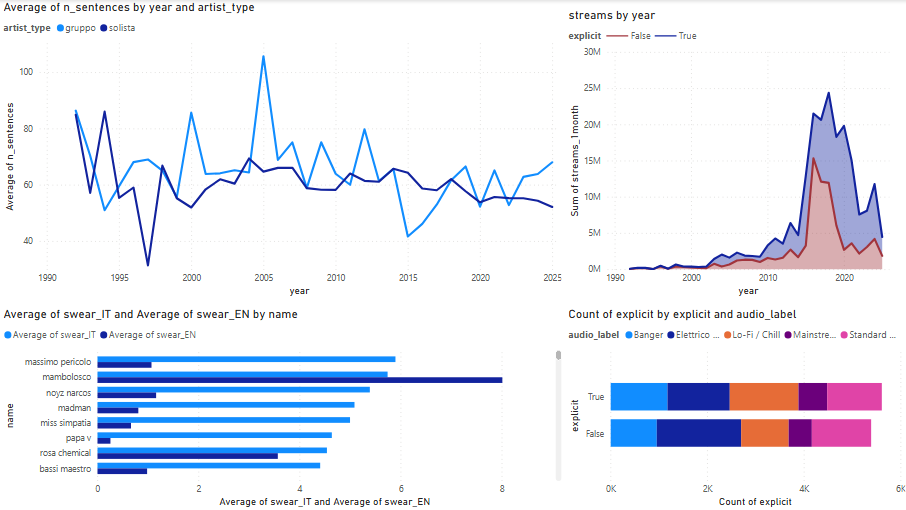

Layout of this report page (visuals, bound fields, positions):
{"tool":"powerbi","page":{"name":"A21","canvas":[1280,720],"ordinal":1},"visuals":[{"type":"lineChart","fields":{"Y":["Avg(Group_ID_6 TextDim.n_sentences)"],"Category":["Group_ID_6 DateDim.year","Group_ID_6 DateDim.season","Group_ID_6 DateDim.month"],"Series":["Group_ID_6 ArtistDim.artist_type"]},"box":[0,0,795.6,422.4],"z":0},{"type":"stackedAreaChart","title":"streams by year","fields":{"Category":["Group_ID_6 DateDim.year"],"Y":["Sum(Group_ID_6 FactSong.streams_1month)"],"Series":["Group_ID_6 TextDim.explicit"]},"box":[795.6,11.3,464.7,411.2],"z":1000},{"type":"clusteredBarChart","fields":{"Category":["Group_ID_6 ArtistDim.name"],"Y":["Avg(Group_ID_6 TextDim.swear_IT)","Avg(Group_ID_6 TextDim.swear_EN)"]},"box":[0,432.3,795.6,287.3],"z":2000},{"type":"barChart","fields":{"Series":["Group_ID_6 SymphonyDim.audio_label"],"Category":["Group_ID_6 TextDim.explicit"],"Y":["CountNonNull(Group_ID_6 TextDim.explicit)"]},"box":[795.6,432.3,484.4,287.3],"z":3000}]}

Visuals, with their boxes in screenshot pixels (x1, y1, x2, y2), scaled from the page's 1280x720 canvas onto the 906x510 screenshot:
lineChart - Avg(Group_ID_6 TextDim.n_sentences) x Group_ID_6 DateDim.year: pyautogui.locateOnScreen(0, 0, 563, 299)
"streams by year" stackedAreaChart: pyautogui.locateOnScreen(563, 8, 892, 299)
clusteredBarChart - Group_ID_6 ArtistDim.name x Avg(Group_ID_6 TextDim.swear_IT): pyautogui.locateOnScreen(0, 306, 563, 509)
barChart - Group_ID_6 SymphonyDim.audio_label x Group_ID_6 TextDim.explicit: pyautogui.locateOnScreen(563, 306, 905, 509)
